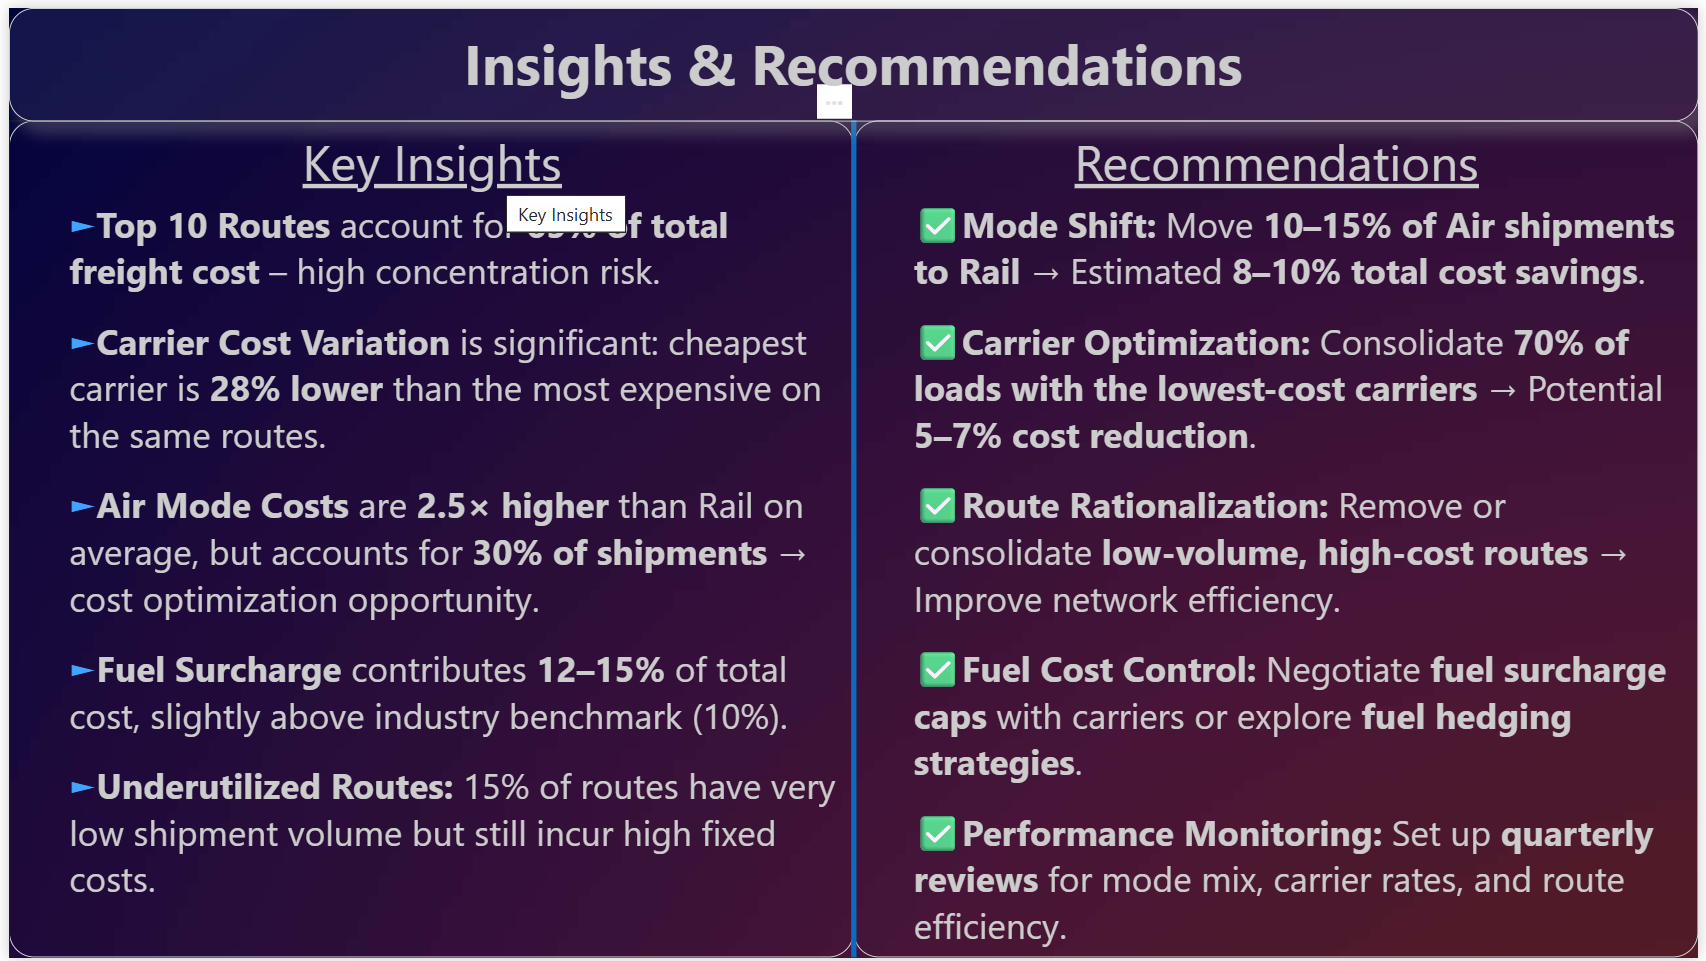

What the dashboard file says about the page in this screenshot:
{"tool":"powerbi","page":{"name":"Insights  & Recommendations","canvas":[1280,720],"ordinal":3},"visuals":[{"type":"textbox","title":"Recommendations","box":[640,85.7,640,634.3],"z":0},{"type":"textbox","title":"Key Insights","box":[0,85.7,640,634.3],"z":1000},{"type":"shape","box":[500,85.7,280,634.3],"z":2000},{"type":"textbox","box":[0,0,1280,85.7],"z":3000}]}

Visuals, with their boxes in screenshot pixels (x1, y1, x2, y2), scaled from the page's 1280x720 canvas onto the 1706x961 screenshot:
"Recommendations" textbox: bbox=(853, 114, 1705, 960)
"Key Insights" textbox: bbox=(0, 114, 853, 960)
shape: bbox=(666, 114, 1040, 960)
textbox: bbox=(0, 0, 1705, 114)
